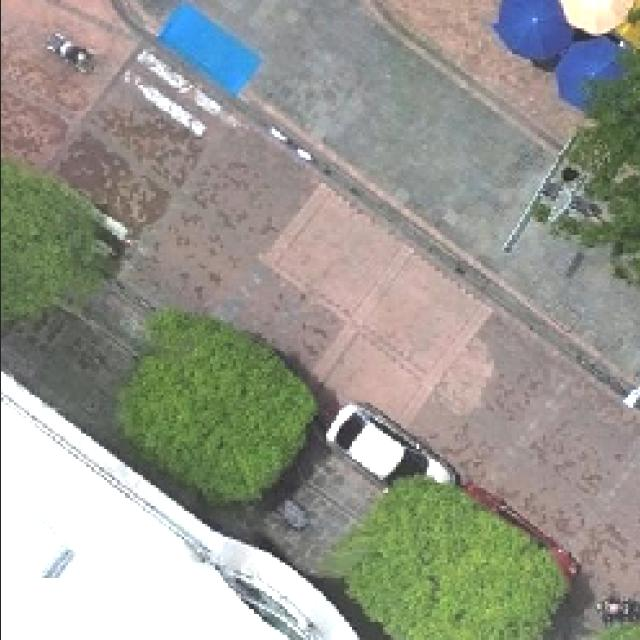vendedor_ambulante: (554, 39, 624, 115), (490, 0, 562, 62), (558, 0, 630, 34)
